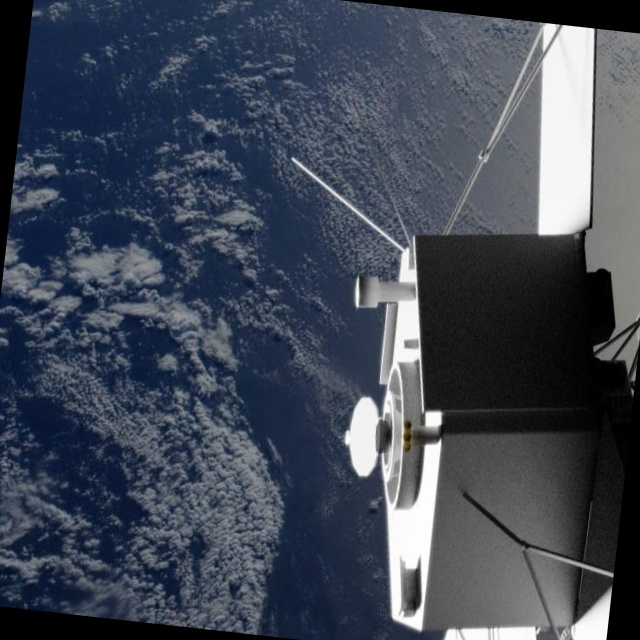satellite: (225, 0, 640, 640)
